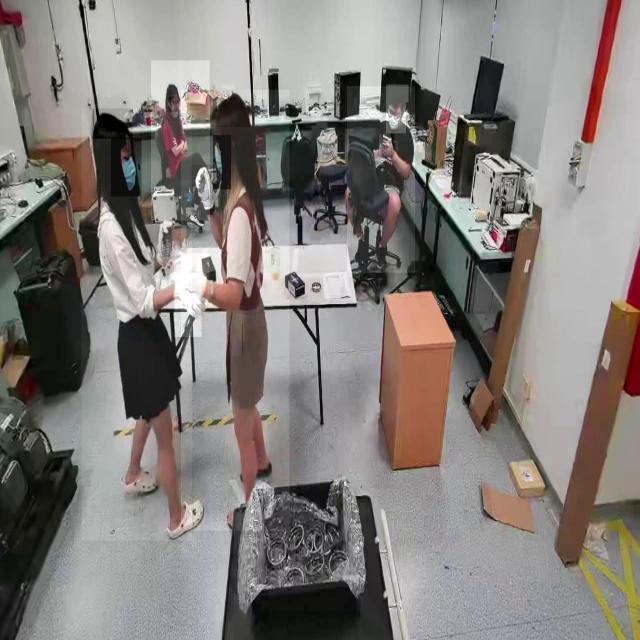gloves: (174, 273, 202, 337), (180, 254, 210, 304), (190, 164, 214, 218), (156, 224, 174, 271)
